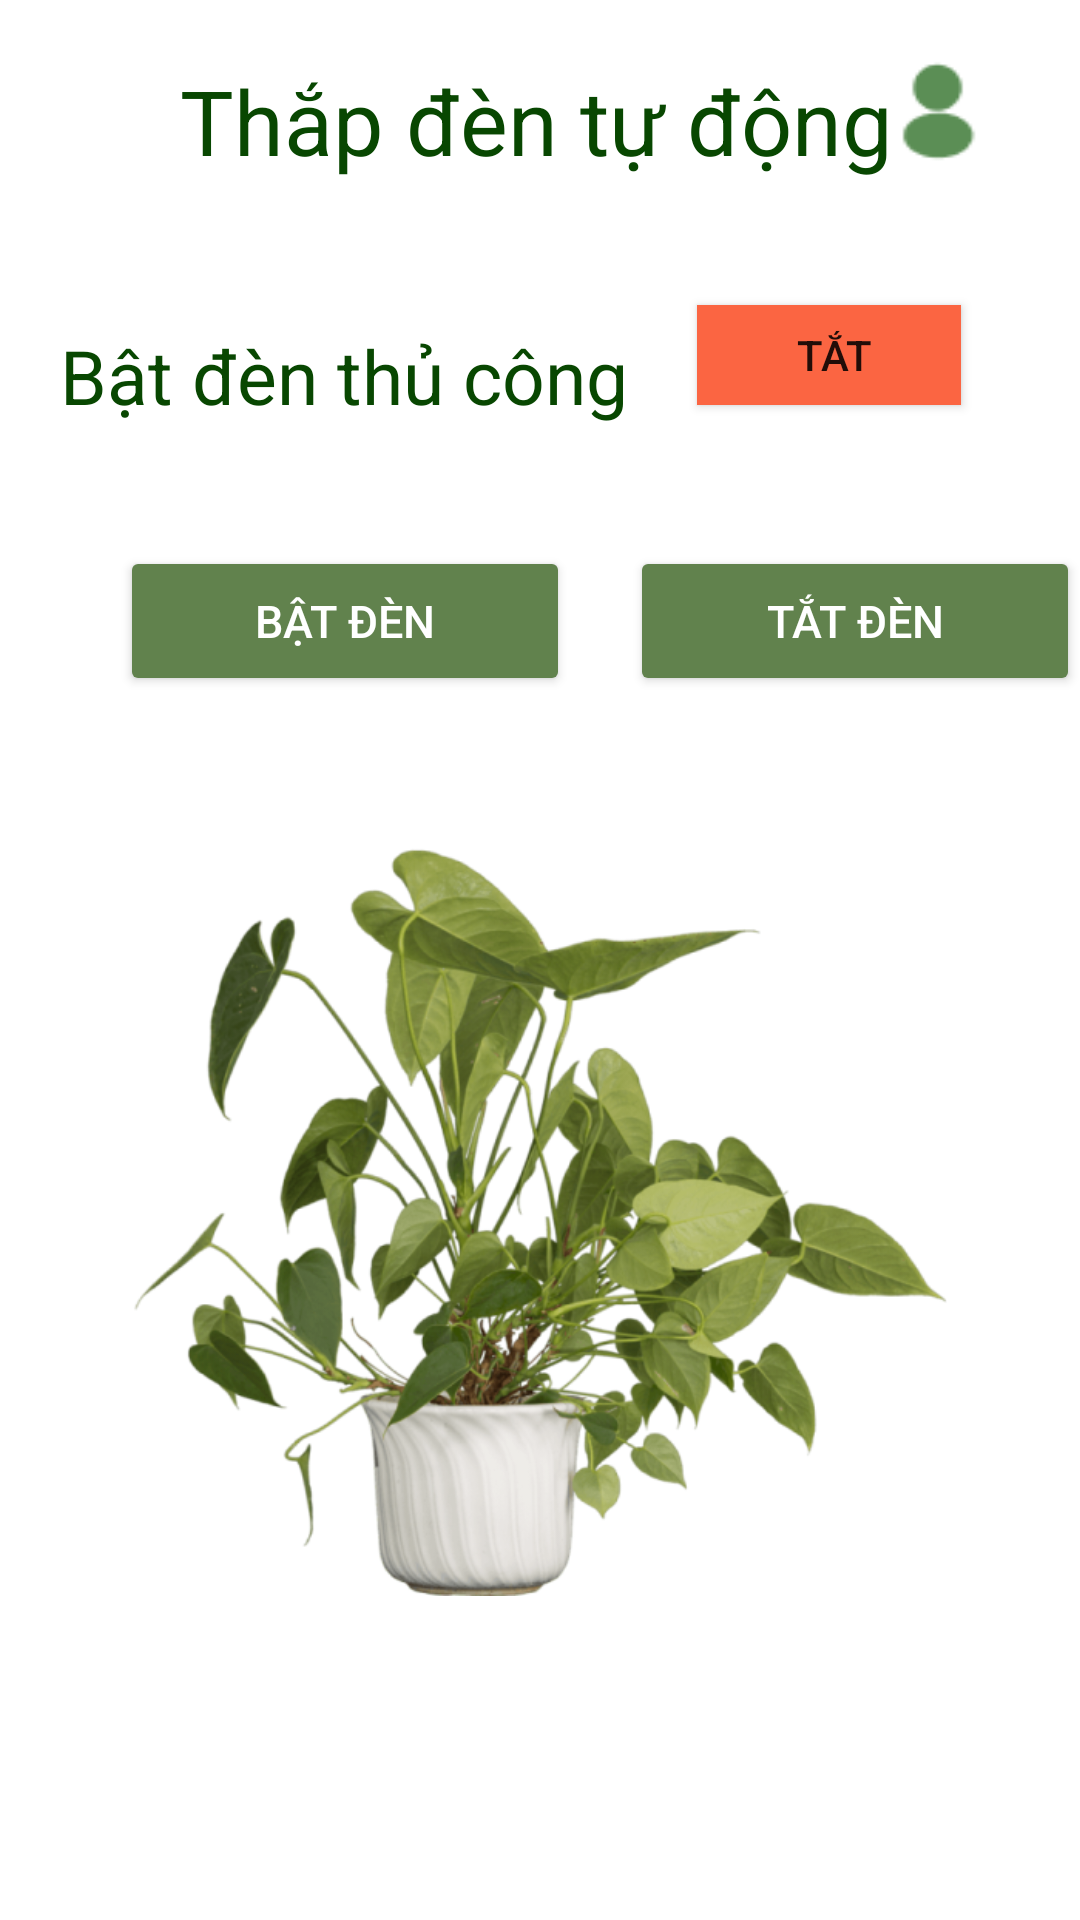

Named icons in this screenshot (1080w x 1920h) and their centers, (x=x, y=y):
user: (x=938, y=111)
